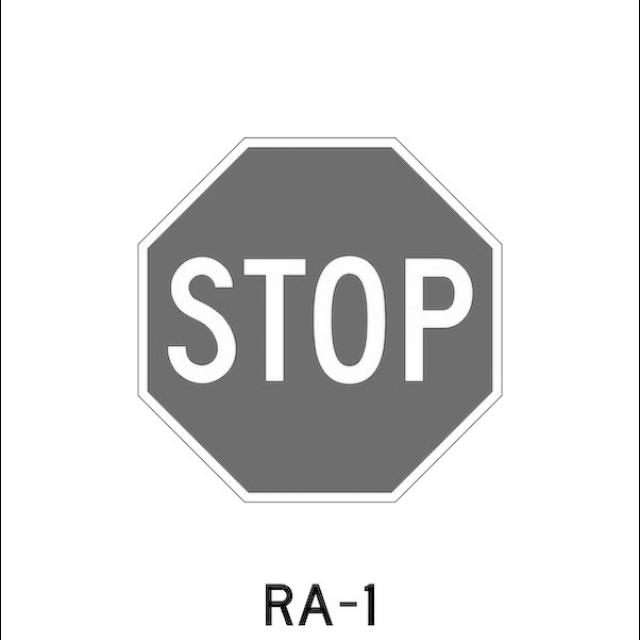STOP: (134, 134, 506, 506)
